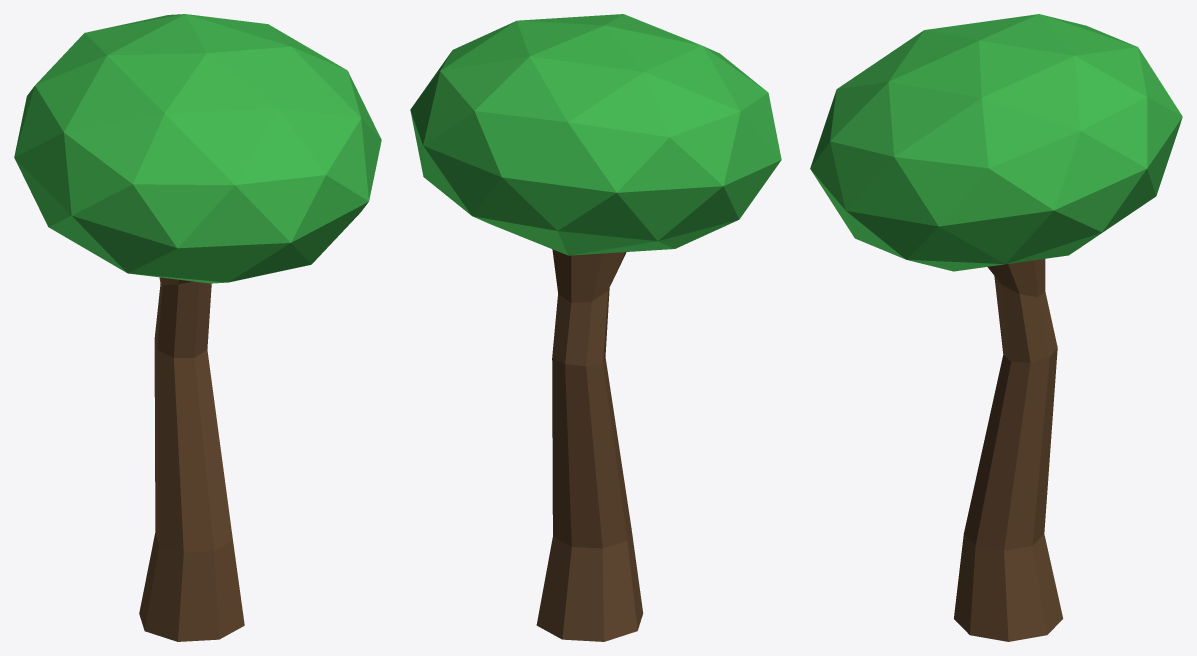
File: Arbol5.fbx
3 views of the same model, side by side, from view 1: azimuth 30°, elevation 25°; view 2: azimuth 150°, elevation 25°; view 3: azimuth 270°, elevation 25° (orthographic).
Visible parts, largest first — view 1: Icosphere.005; view 2: Icosphere.005; view 3: Icosphere.005.
Part boxes in pixels (x1,y1,x2,y2): Icosphere.005: (14, 14, 381, 641); Icosphere.005: (410, 14, 781, 641); Icosphere.005: (810, 14, 1182, 641).
Size of the model in its own units: 162 by 288 by 168.
